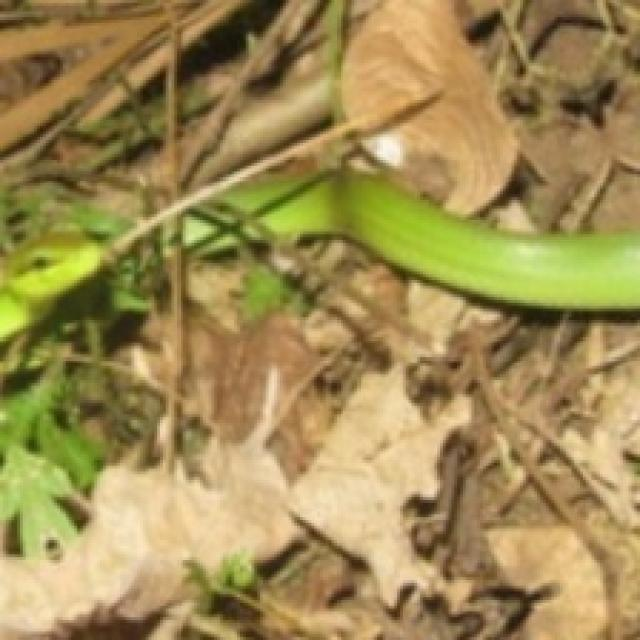red-tailed green ratsnake: (214, 171, 637, 309)
